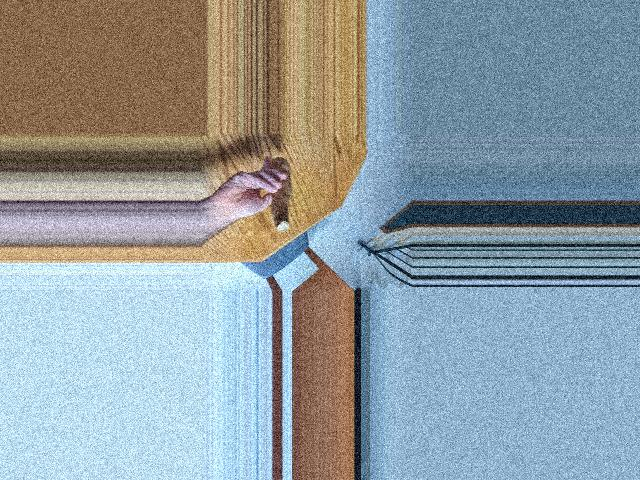sweet_potato: (266, 162, 297, 226)
